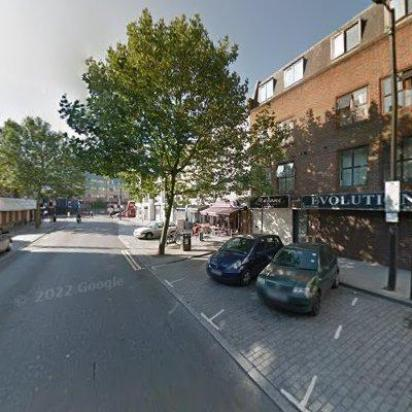stationary-car-onstreet: (256, 242, 340, 320), (206, 234, 284, 288), (132, 218, 178, 240), (1, 225, 12, 253)
